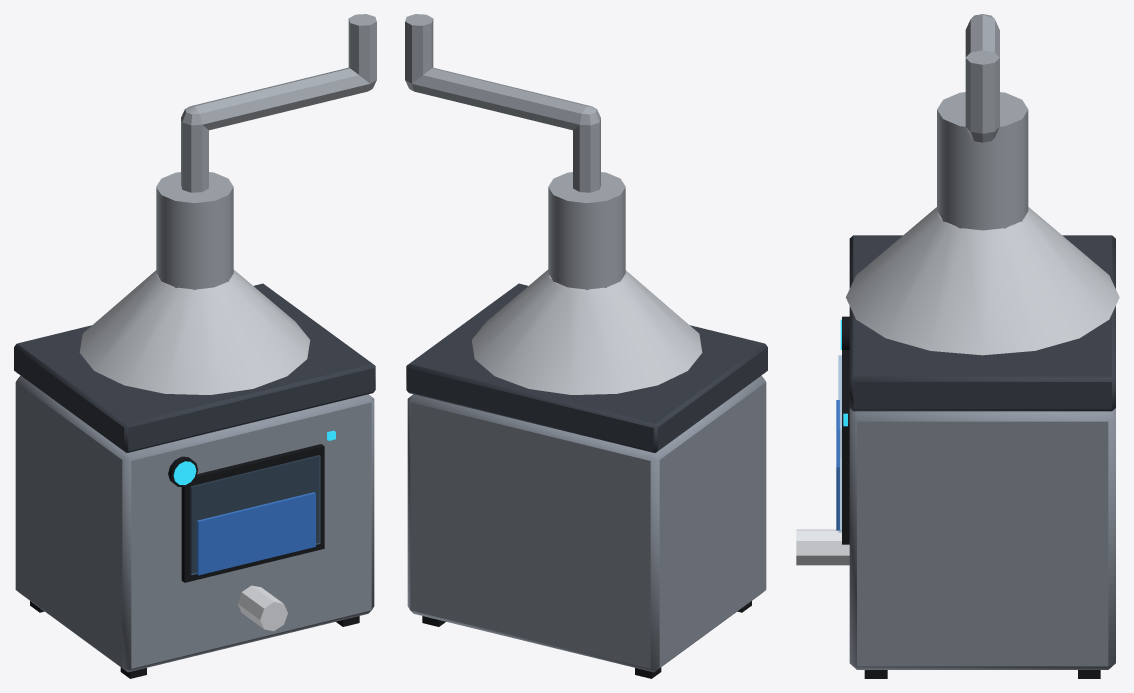
The model's file is watertank_condensate_collector.glb.
3 views of the same model, side by side, from view 1: azimuth 30°, elevation 25°; view 2: azimuth 150°, elevation 25°; view 3: azimuth 270°, elevation 25° (orthographic). The views are drawn at different scales.
Parts seen in each view (by area): view 1: watertank_condensate_collector; view 2: watertank_condensate_collector; view 3: watertank_condensate_collector.
Boxes of the visible parts, <box> form: watertank_condensate_collector: <box>14,14,376,678</box>; watertank_condensate_collector: <box>405,14,767,678</box>; watertank_condensate_collector: <box>796,14,1119,678</box>.
Size of the model in its own units: 1.09 by 1.89 by 0.85.
